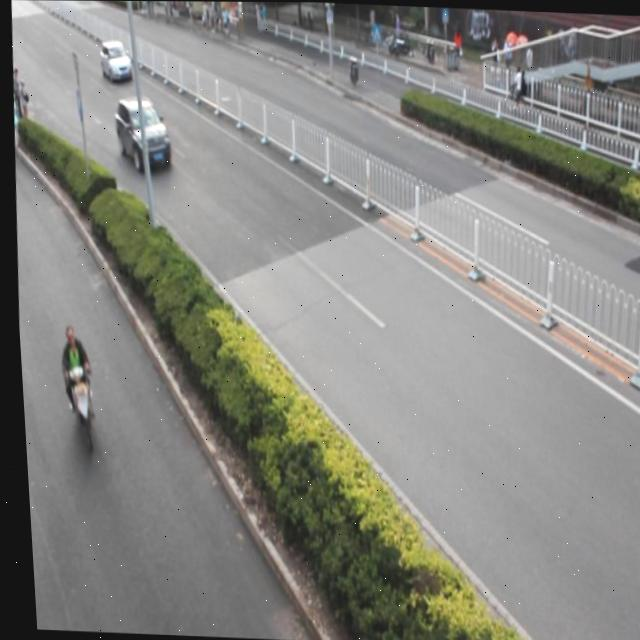car: (112, 100, 172, 172), (97, 40, 131, 81)
